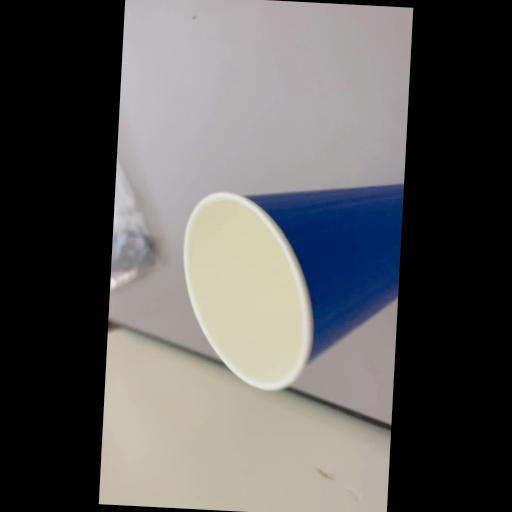lp_paper_cup: (174, 170, 404, 397)
